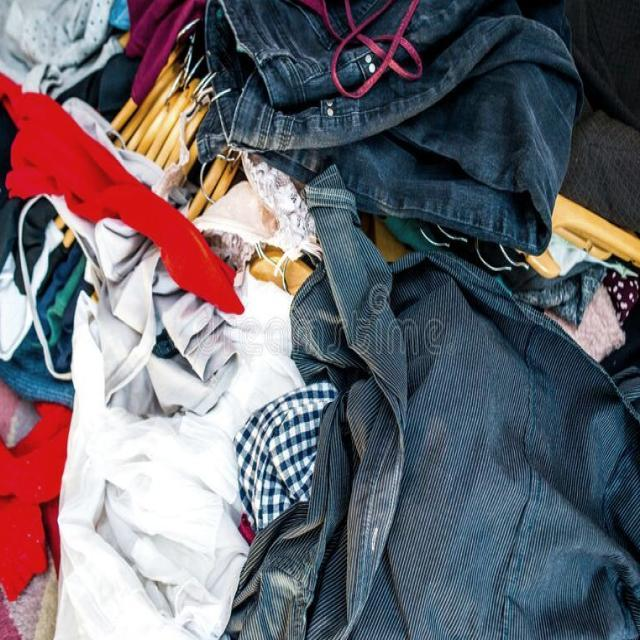clothes: (42, 72, 508, 592)
